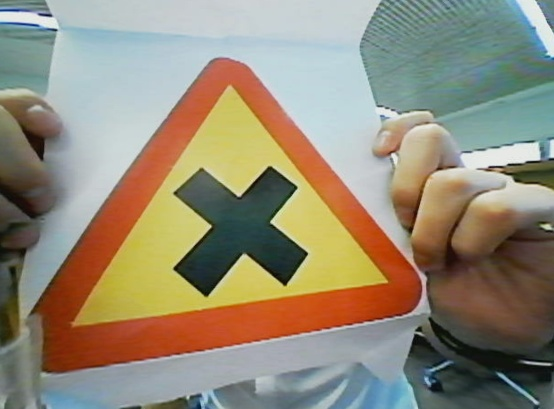junction: (37, 45, 430, 369)
